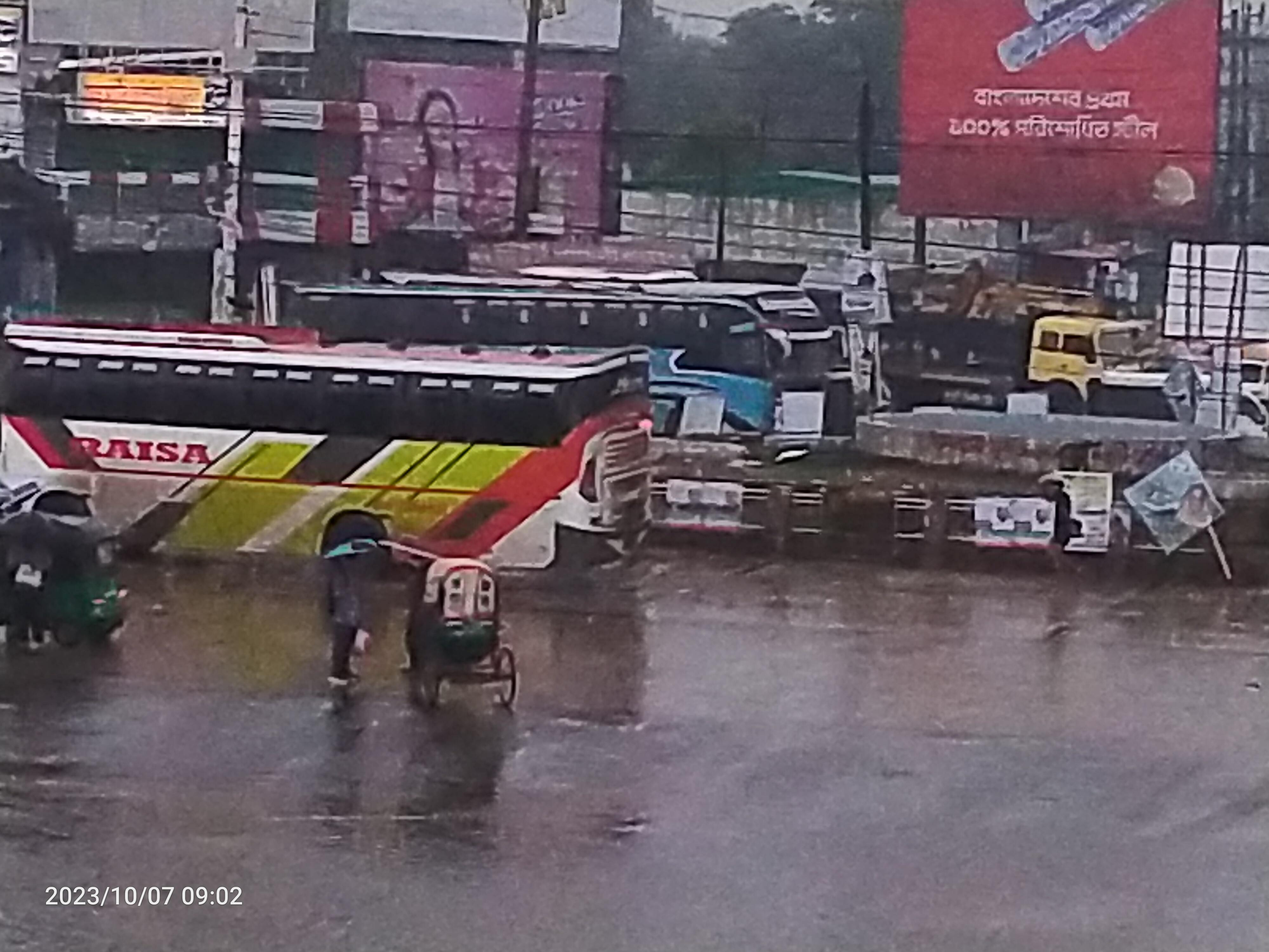Bus: (0, 307, 716, 589), (228, 239, 876, 479)
Car: (376, 536, 562, 737)
Truck: (859, 291, 1207, 438)
